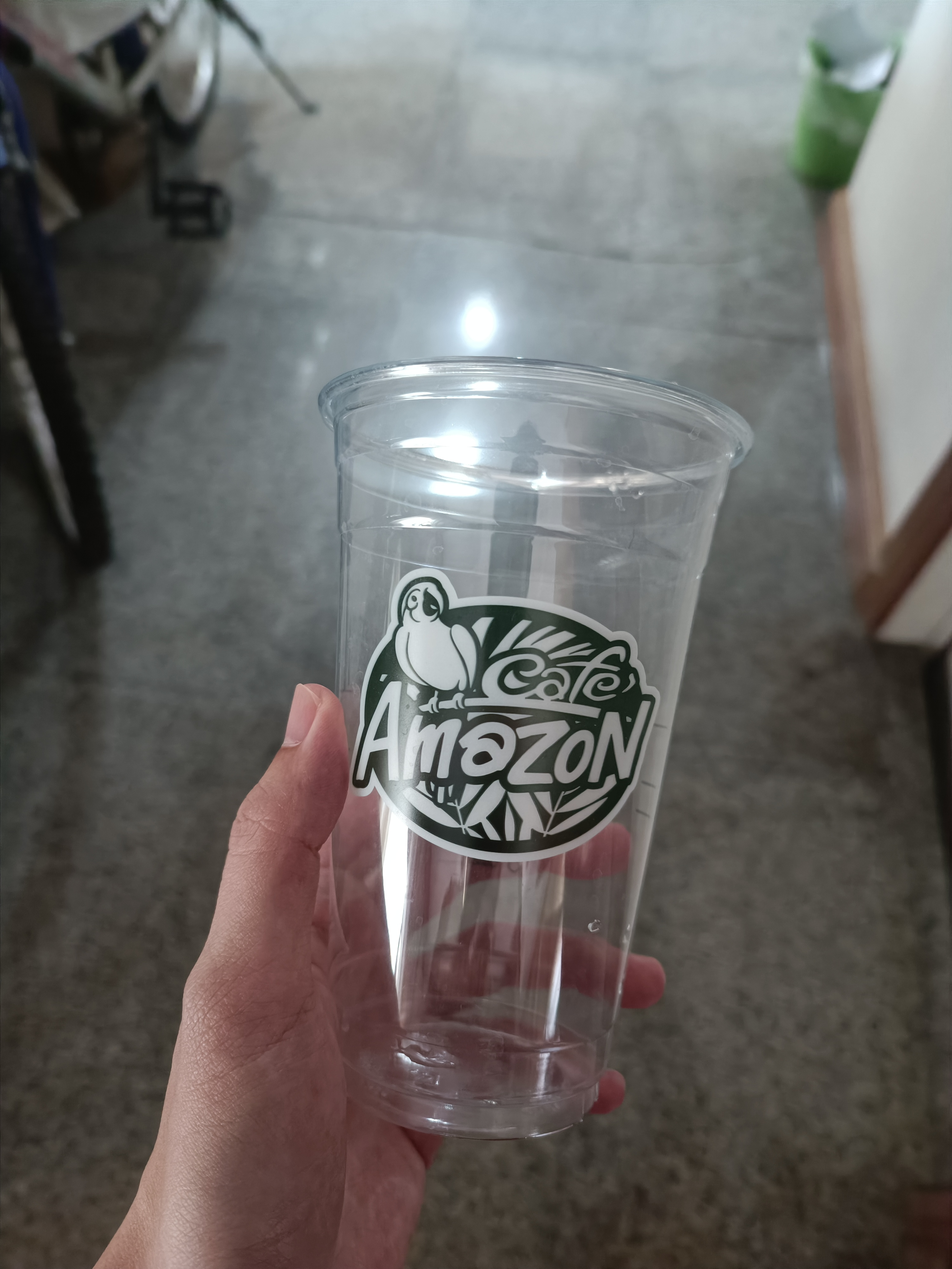plastic: (311, 352, 765, 1164)
